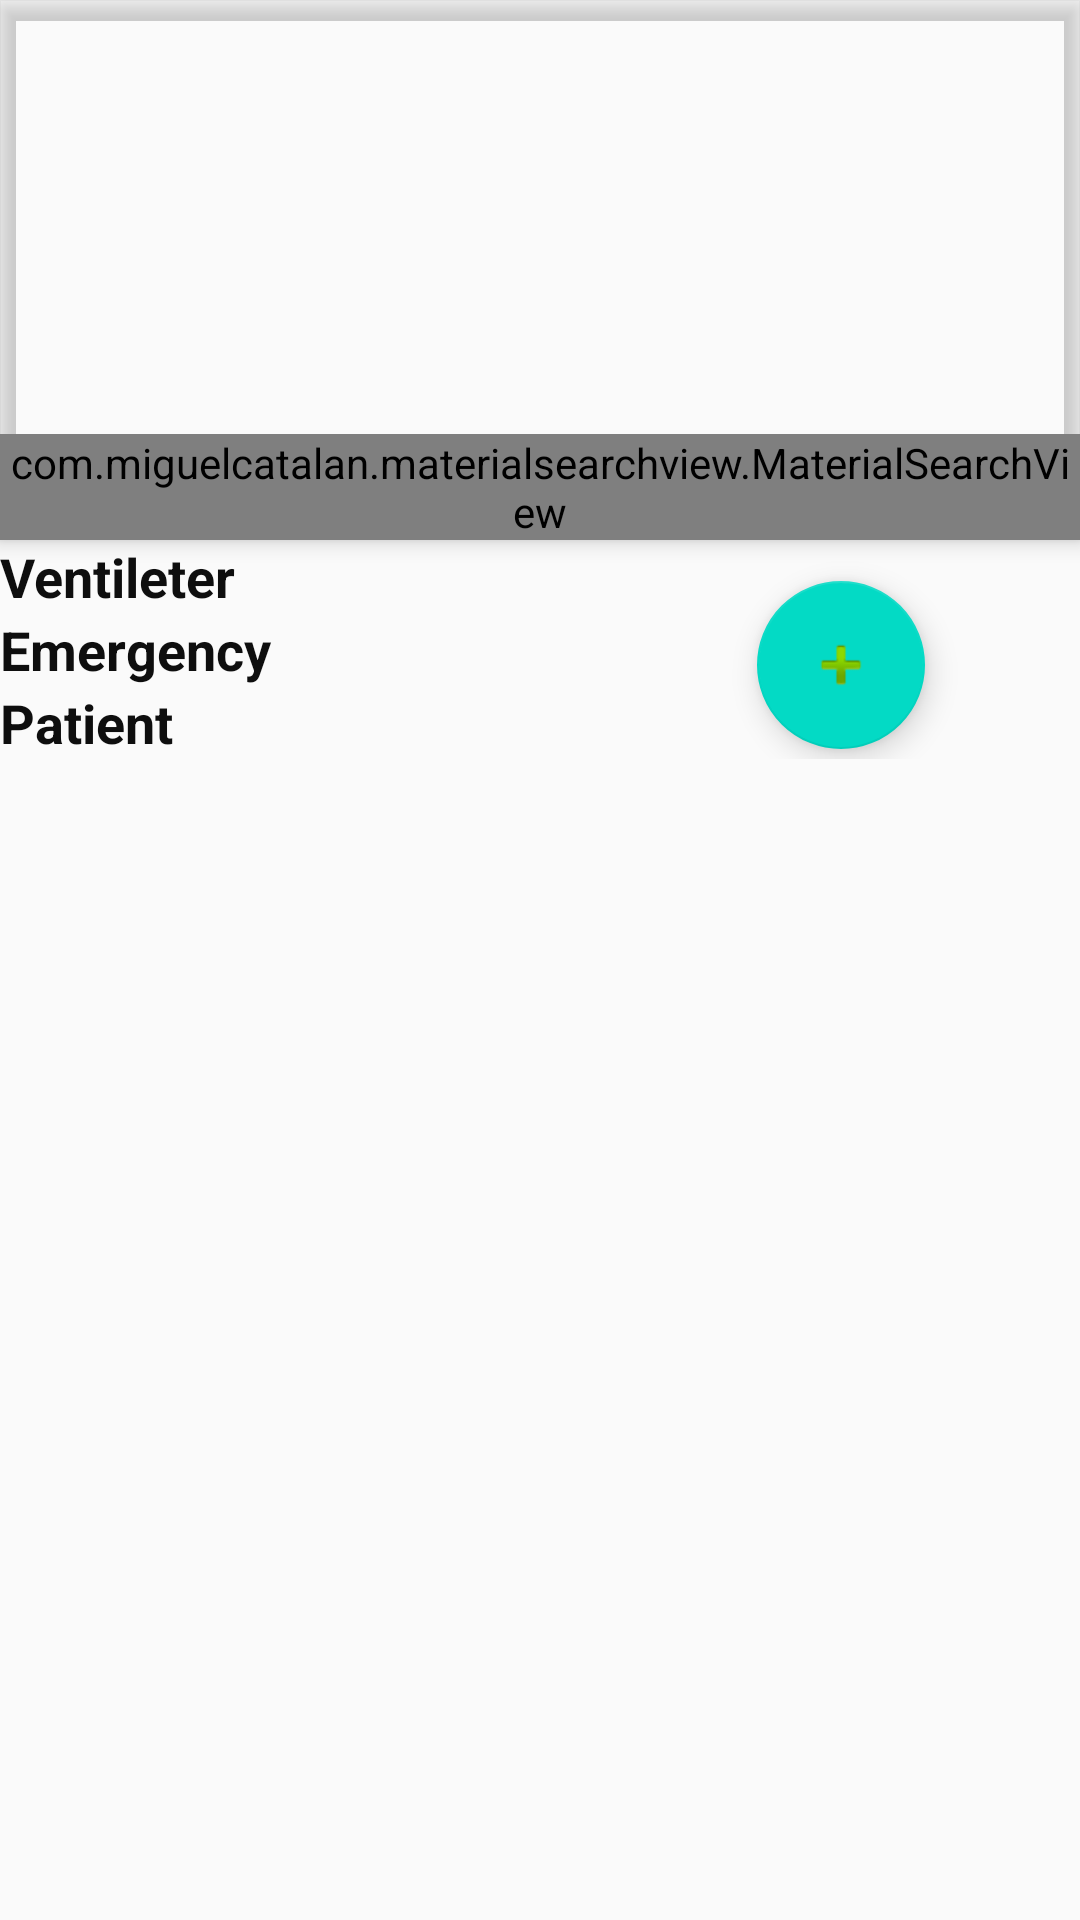

Locate icon controls on the screen. Image size 1080 × 1920, boxes as (x1, y1, x2, y2).
add: (757, 581, 925, 749)
